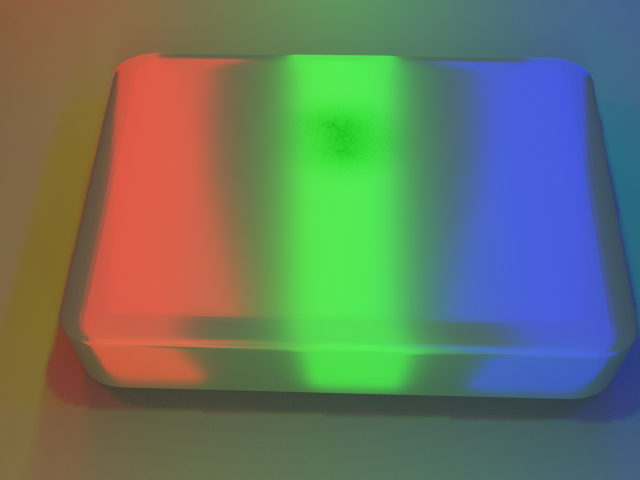stain: (219, 59, 462, 192)
